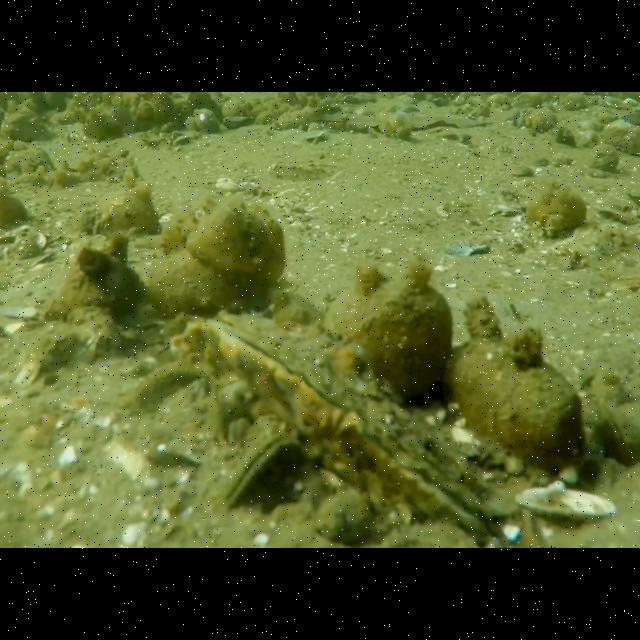Oyster-Closed: (572, 399, 640, 471)
Oyster-Open: (186, 314, 494, 538), (220, 430, 310, 518), (512, 482, 616, 524)
